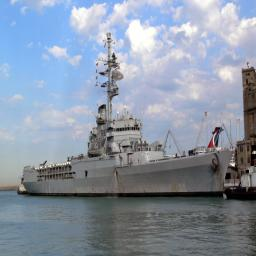Portanaves: (22, 30, 236, 201)
